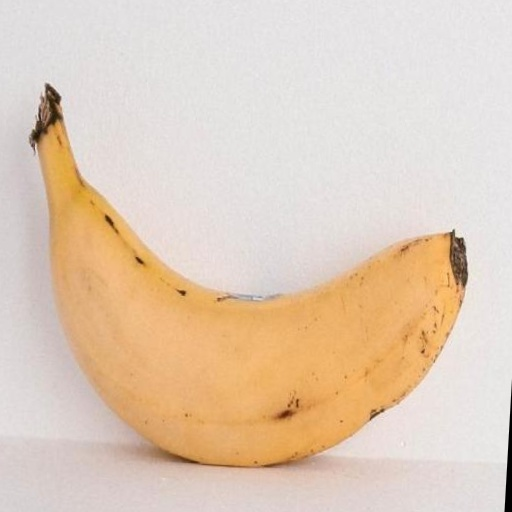fruit: (31, 85, 467, 465)
